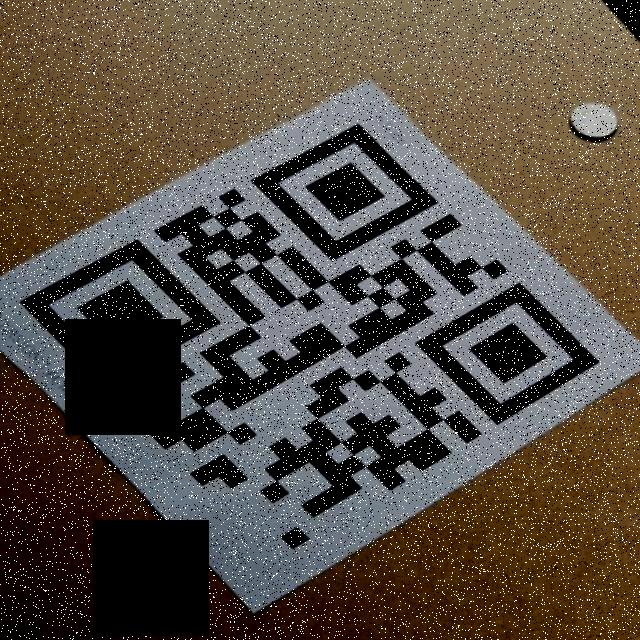QR_CODE: (16, 110, 612, 556)
